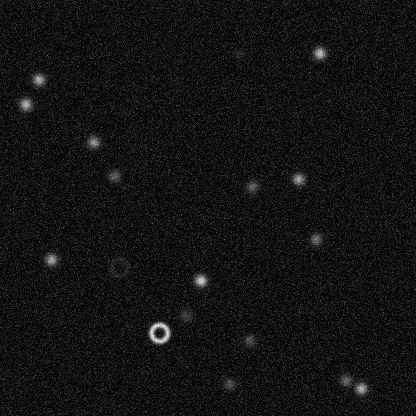Ring: (107, 255, 131, 279), (147, 320, 171, 344)
Spot: (106, 167, 122, 183), (85, 134, 101, 150), (241, 332, 257, 348), (192, 272, 208, 288), (17, 96, 33, 112), (43, 251, 59, 267), (307, 231, 323, 247), (337, 372, 353, 388), (231, 46, 247, 62), (220, 375, 236, 391), (290, 171, 306, 187), (30, 71, 46, 87), (311, 45, 327, 61), (177, 307, 193, 323), (353, 380, 369, 396), (244, 178, 260, 194)
